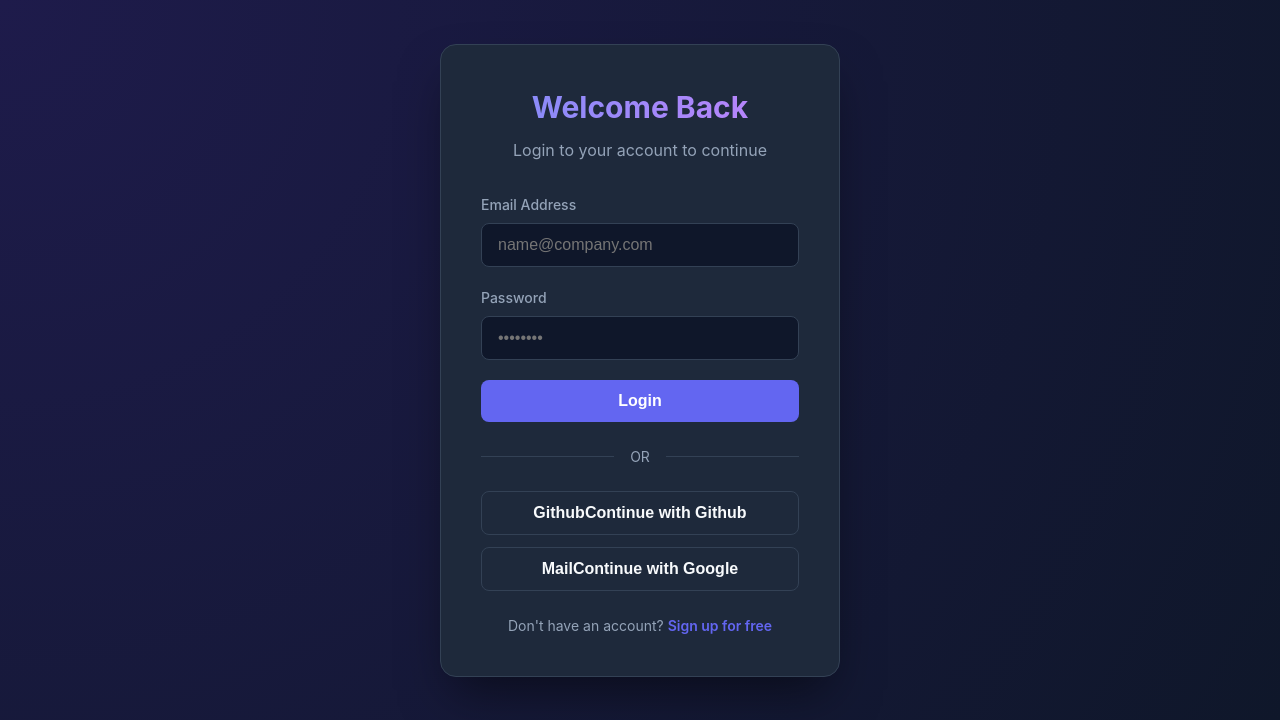
Test case: LoginComponent › shows error message on failure
Type "test@example.com" into the field labelled "Email Address" at (640, 244), box [481, 222, 799, 266]
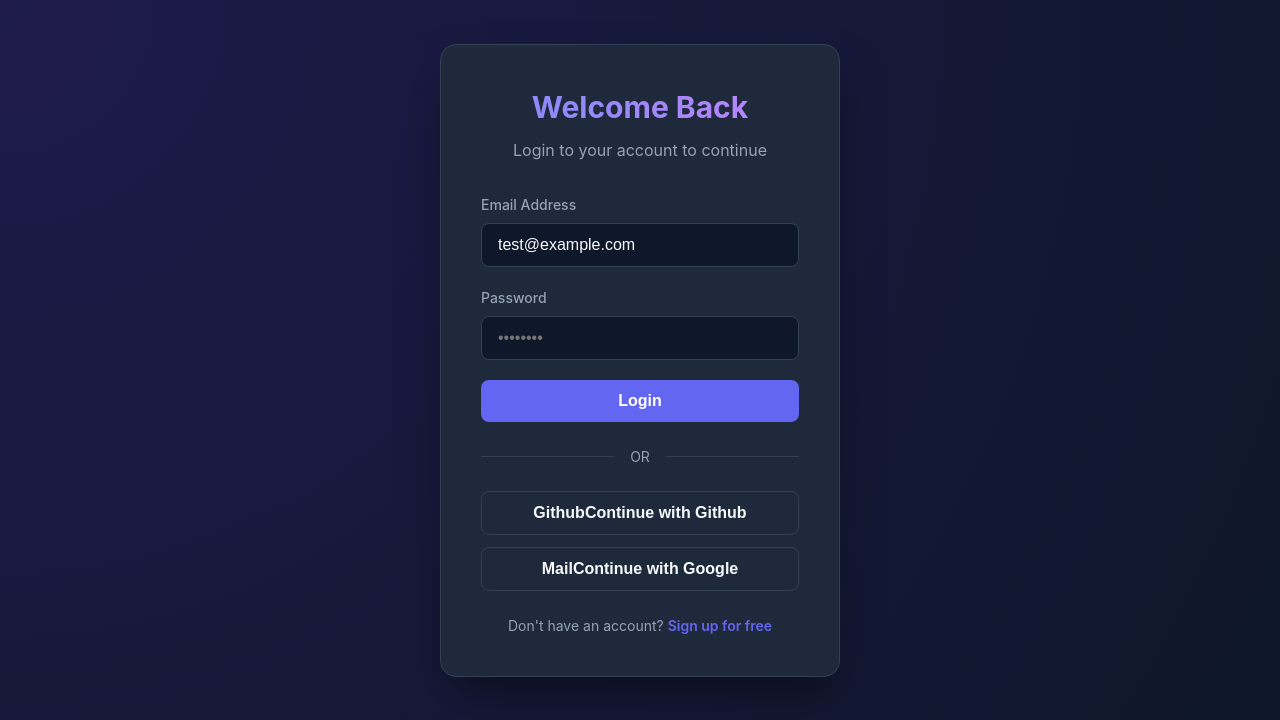
Type "wrong" into the password field labelled "Password" at (640, 338), box [481, 316, 799, 360]
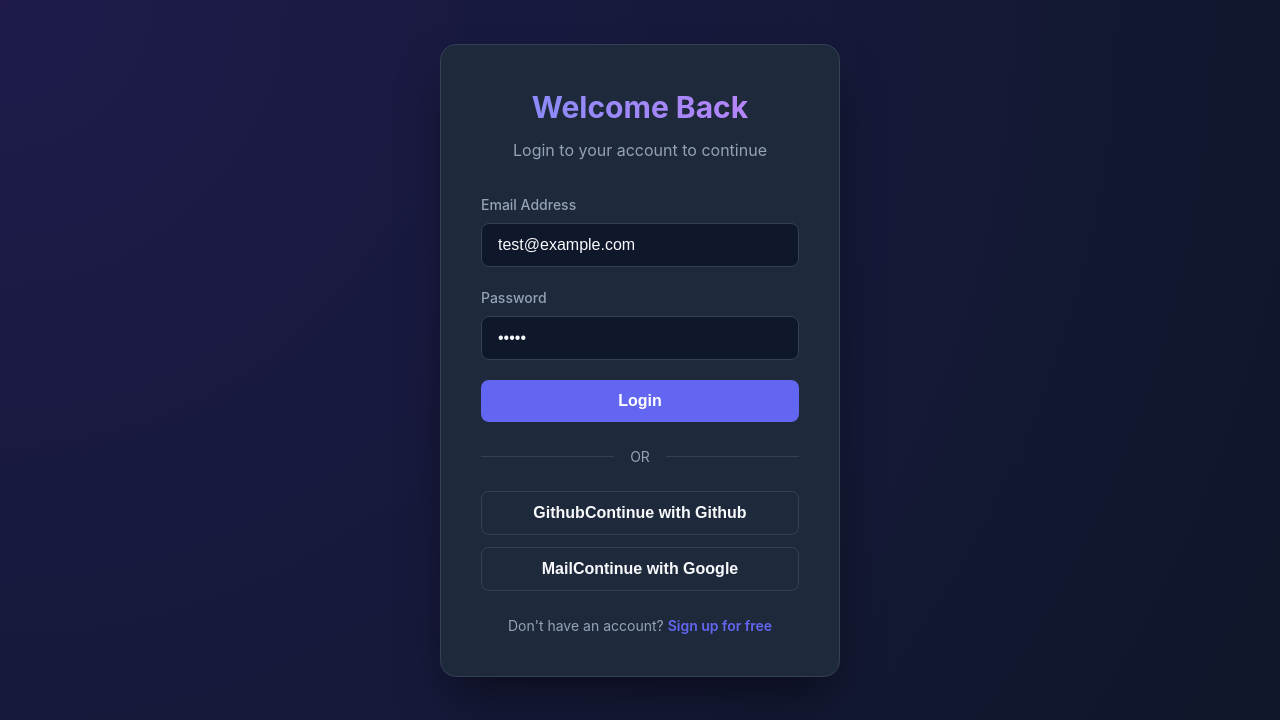
Click the button "Login" at (640, 400), box [481, 380, 799, 422]
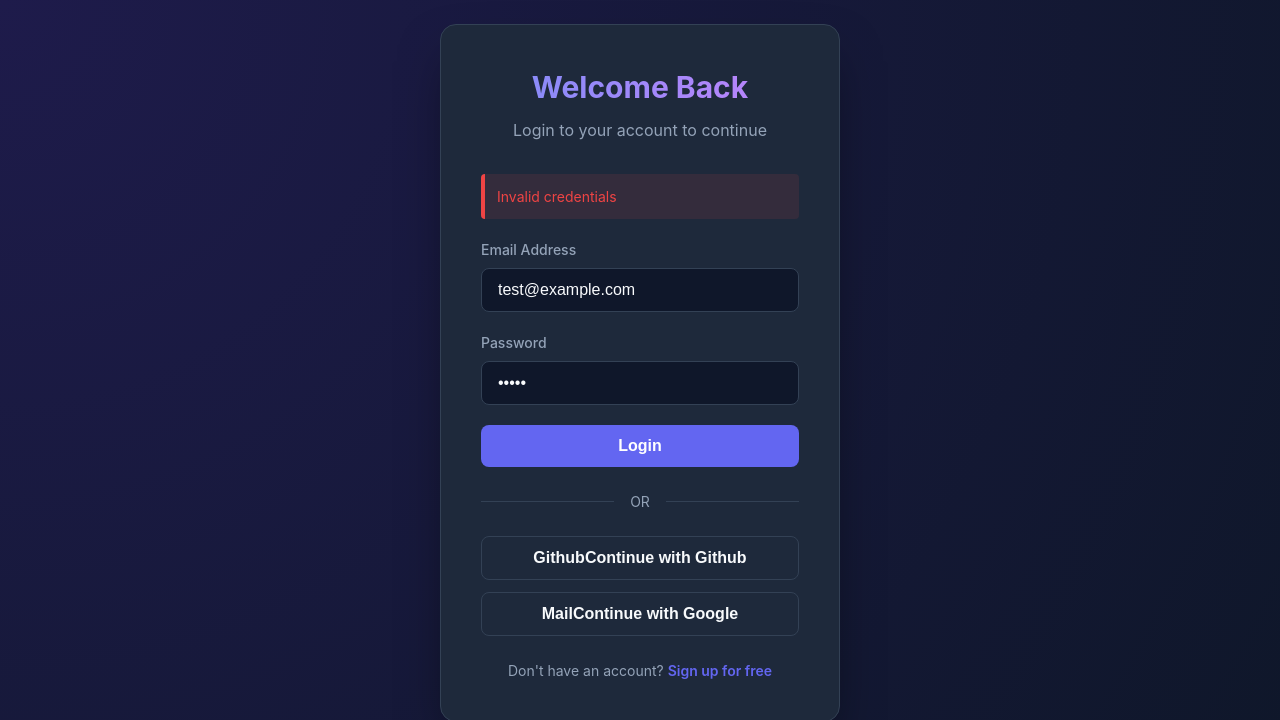
Expected: the text "Invalid credentials" is shown, [481, 174, 799, 219]
